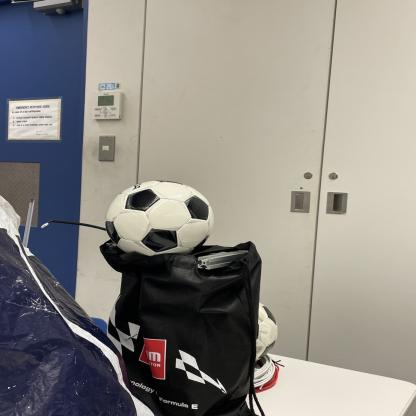ball: (106, 181, 216, 254)
